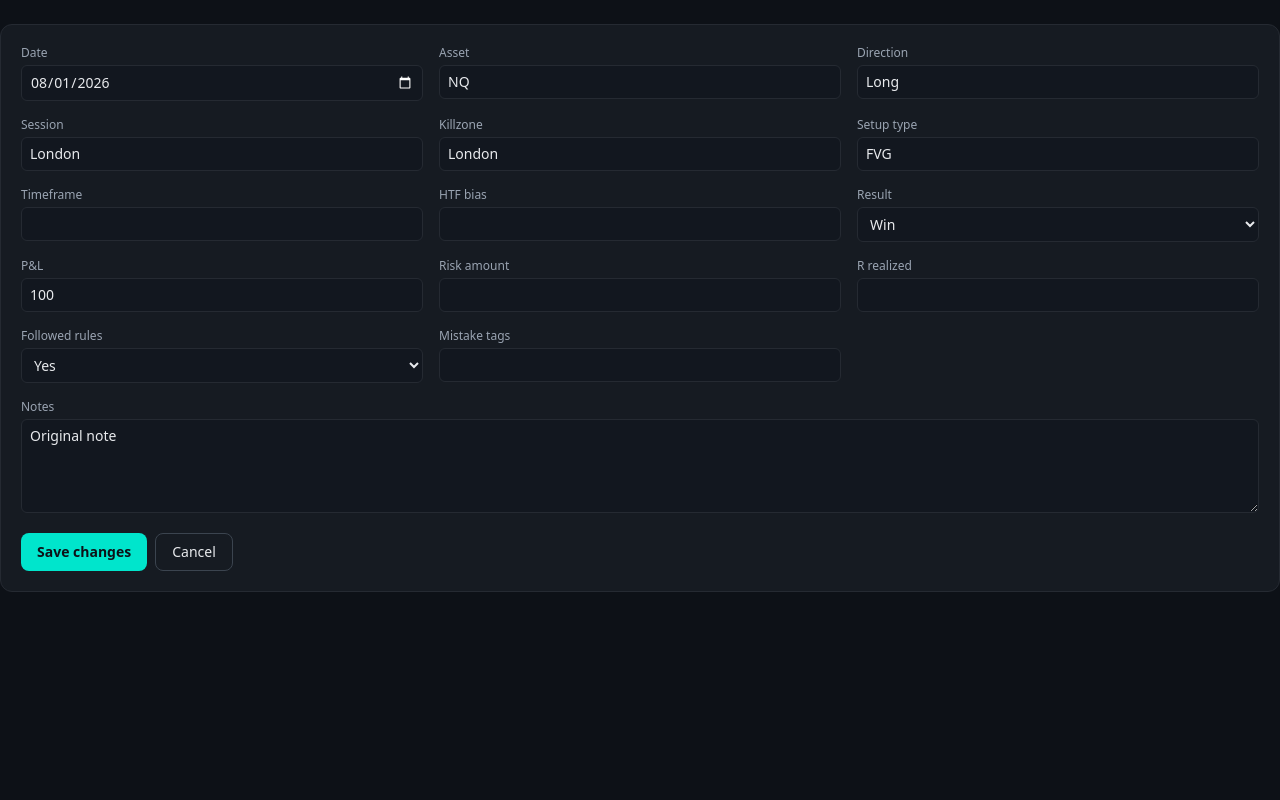
EditTradeForm › blocks submission with a non-numeric P&L rather than sending it
Replace the text in the field showing "100" with "not a number": (222, 295) [21,278,423,312]
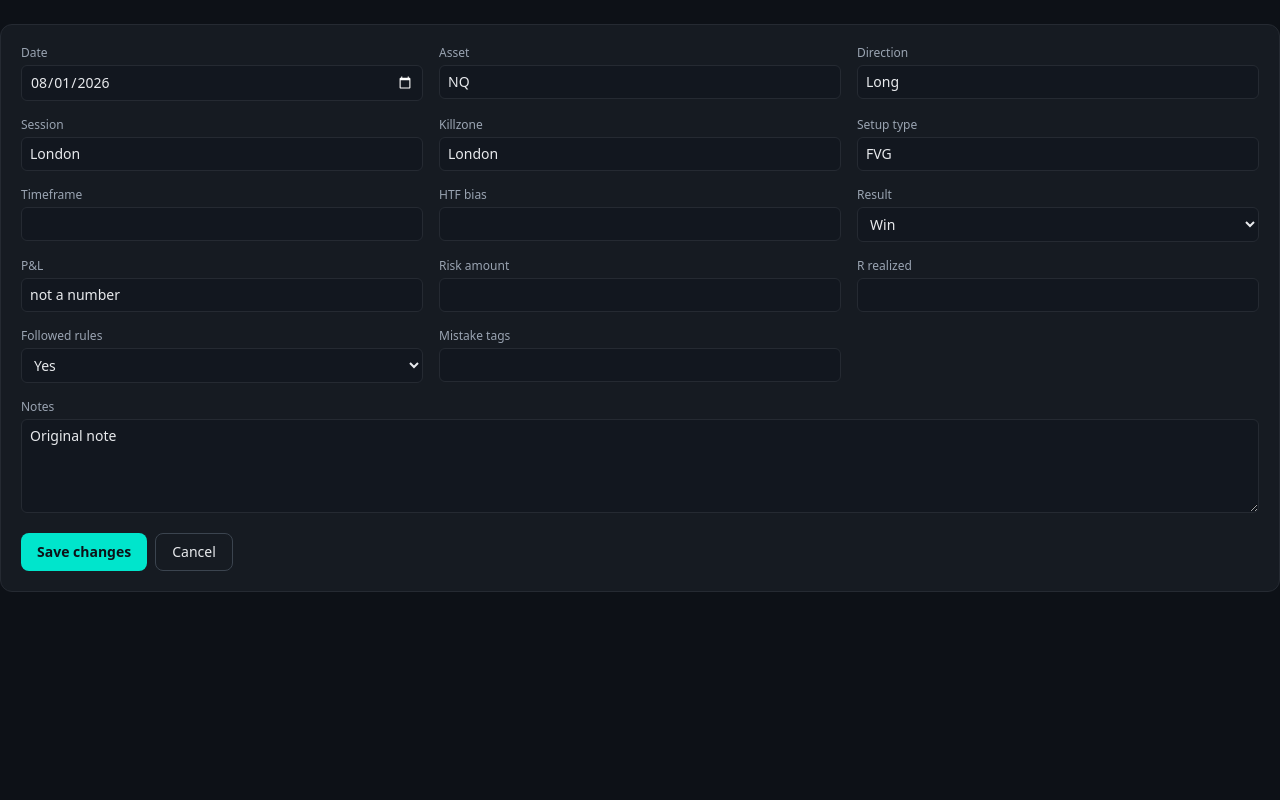
Click the button "Save changes": (84, 552) [21,533,147,571]
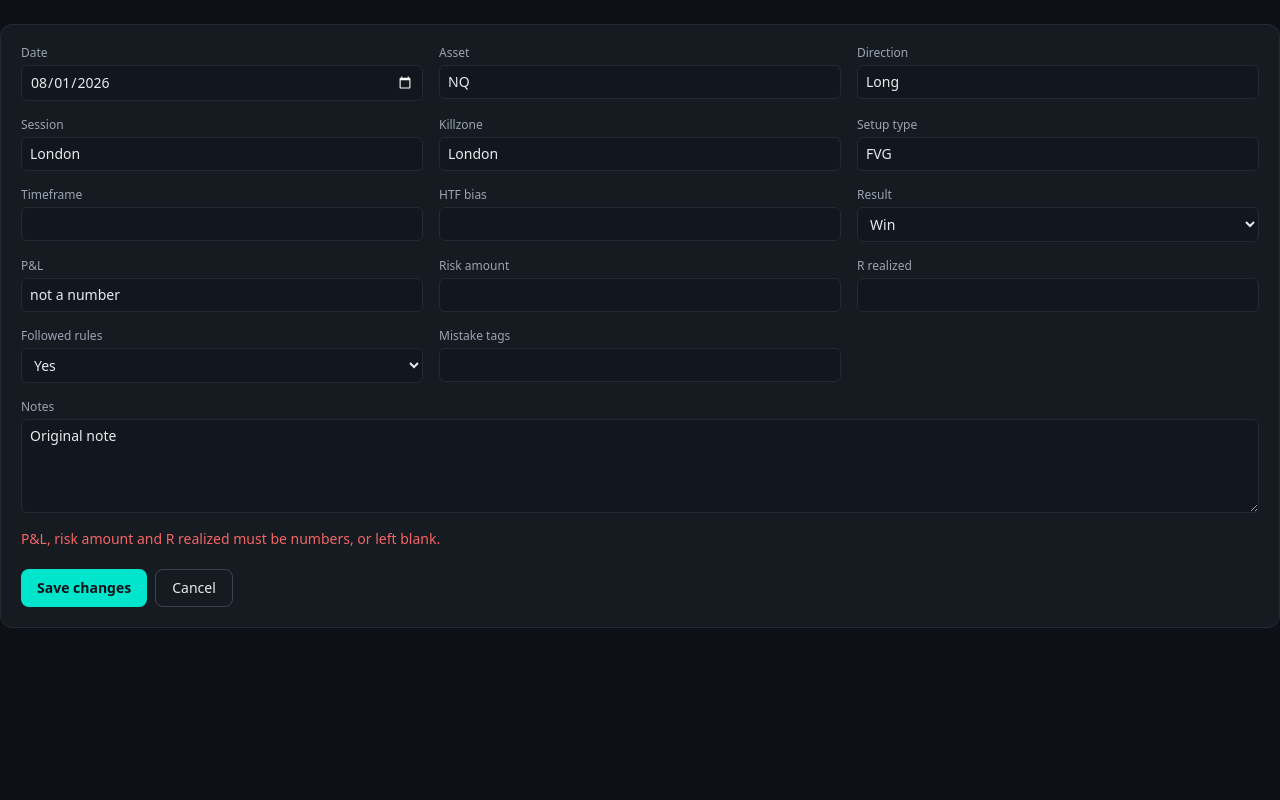
Expected: the message shows "must be numbers", [21,529,440,548]
